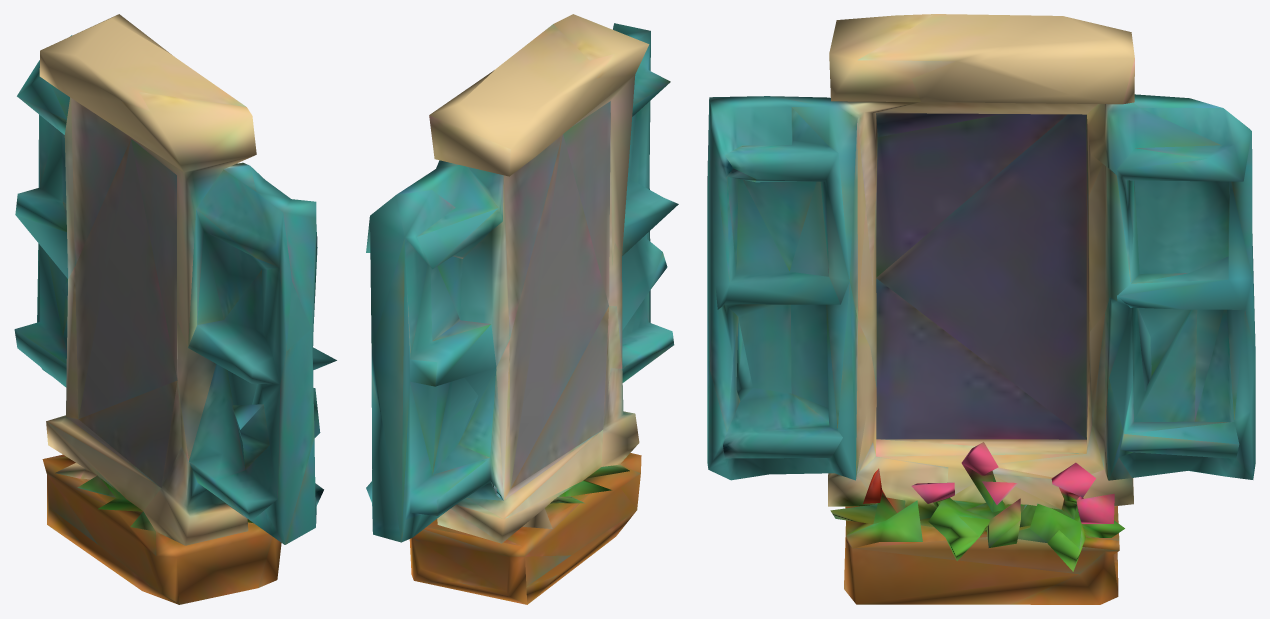
Rendered from window.glb.
3 views of the same model, side by side, from view 1: azimuth 30°, elevation 25°; view 2: azimuth 150°, elevation 25°; view 3: azimuth 270°, elevation 25° (orthographic). The views are drawn at different scales.
Visible parts, largest first — view 1: tripo_node_7eade4c8-3bdd-4e0c-ad6a-700361b5e54f; view 2: tripo_node_7eade4c8-3bdd-4e0c-ad6a-700361b5e54f; view 3: tripo_node_7eade4c8-3bdd-4e0c-ad6a-700361b5e54f.
Part boxes in pixels (left/top/right/bottom): tripo_node_7eade4c8-3bdd-4e0c-ad6a-700361b5e54f: left=14, top=14, right=336, bottom=604; tripo_node_7eade4c8-3bdd-4e0c-ad6a-700361b5e54f: left=366, top=14, right=678, bottom=604; tripo_node_7eade4c8-3bdd-4e0c-ad6a-700361b5e54f: left=707, top=14, right=1255, bottom=604.
Bounding box in the file's own units: 0.3795 × 1 × 0.9235.
Materials: 1 (1 with a texture image).
